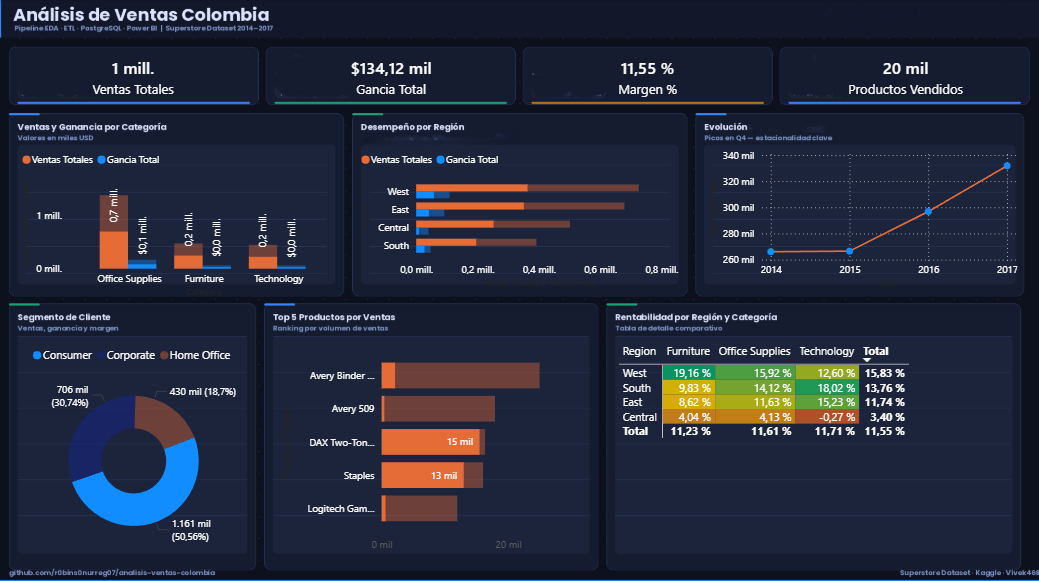

Layout of this report page (visuals, bound fields, positions):
{"tool":"powerbi","page":{"name":"Página 1","canvas":[1280,720],"ordinal":0},"visuals":[{"type":"cardVisual","fields":{"Data":["fact_sales.Ventas Totales"]},"box":[24,54,284,86],"z":0},{"type":"cardVisual","fields":{"Data":["fact_sales.Gancia Total"]},"box":[340,54,284,86],"z":1000},{"type":"cardVisual","fields":{"Data":["fact_sales.Margen %"]},"box":[656,54,284,86],"z":2000},{"type":"cardVisual","fields":{"Data":["fact_sales.Productos Vendidos"]},"box":[972,54,284,86],"z":3000},{"type":"clusteredColumnChart","fields":{"Category":["dim_product.Category"],"Y":["fact_sales.Ventas Totales","fact_sales.Gancia Total"]},"box":[23.4,178.1,398.4,192.2],"z":4000},{"type":"clusteredBarChart","fields":{"Category":["dim_ubication.Region"],"Y":["fact_sales.Ventas Totales","fact_sales.Gancia Total"]},"box":[440.6,178.1,400,181.2],"z":5000},{"type":"lineChart","fields":{"Category":["dim_date.Month_Name"],"Y":["fact_sales.Ventas Totales"]},"box":[867.2,178.1,389.1,181.2],"z":6000},{"type":"donutChart","fields":{"Category":["dim_customer.Segment"],"Y":["fact_sales.Ventas Totales"]},"box":[23.4,417.2,284.4,270.3],"z":7000},{"type":"barChart","fields":{"Category":["dim_product.Product Name"],"Y":["fact_sales.Ventas Totales"]},"box":[340.6,417.2,385.9,270.3],"z":8000},{"type":"pivotTable","fields":{"Rows":["dim_ubication.Region"],"Columns":["dim_product.Category"],"Values":["fact_sales.Margen %"]},"box":[756.2,417.2,489.1,270.3],"z":9000}]}

Visuals, with their boxes in screenshot pixels (x1, y1, x2, y2), scaled from the page's 1280x720 canvas onto the 1039x581 screenshot:
cardVisual - fact_sales.Ventas Totales: pyautogui.locateOnScreen(19, 44, 250, 113)
cardVisual - fact_sales.Gancia Total: pyautogui.locateOnScreen(276, 44, 507, 113)
cardVisual - fact_sales.Margen %: pyautogui.locateOnScreen(532, 44, 763, 113)
cardVisual - fact_sales.Productos Vendidos: pyautogui.locateOnScreen(789, 44, 1020, 113)
clusteredColumnChart - dim_product.Category x fact_sales.Ventas Totales: pyautogui.locateOnScreen(19, 144, 342, 299)
clusteredBarChart - dim_ubication.Region x fact_sales.Ventas Totales: pyautogui.locateOnScreen(358, 144, 682, 290)
lineChart - dim_date.Month_Name x fact_sales.Ventas Totales: pyautogui.locateOnScreen(704, 144, 1020, 290)
donutChart - dim_customer.Segment x fact_sales.Ventas Totales: pyautogui.locateOnScreen(19, 337, 250, 555)
barChart - dim_product.Product Name x fact_sales.Ventas Totales: pyautogui.locateOnScreen(276, 337, 590, 555)
pivotTable - dim_ubication.Region x dim_product.Category: pyautogui.locateOnScreen(614, 337, 1011, 555)
